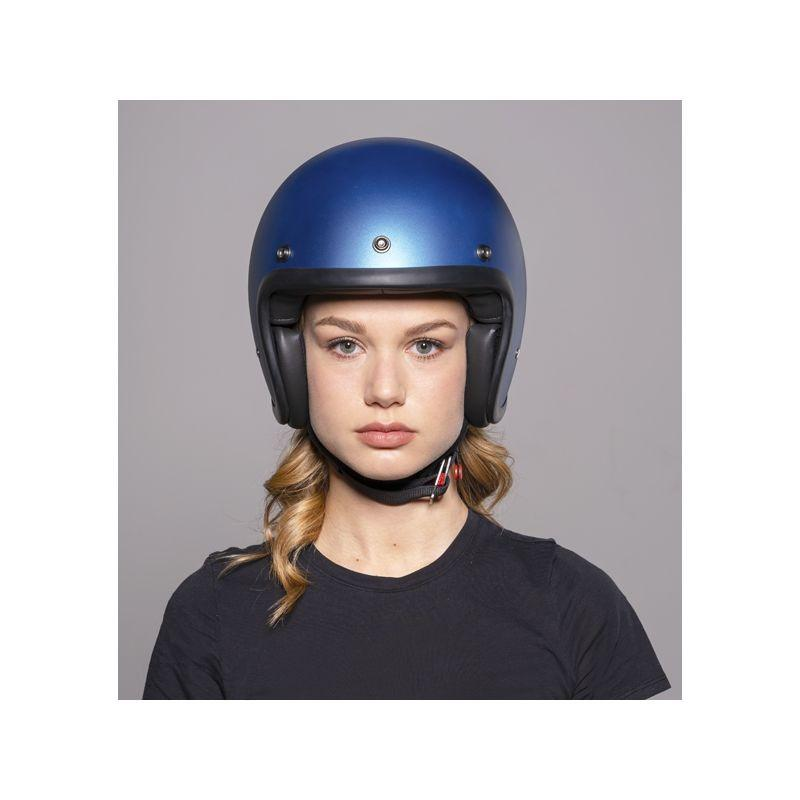helmet: (247, 136, 528, 481)
